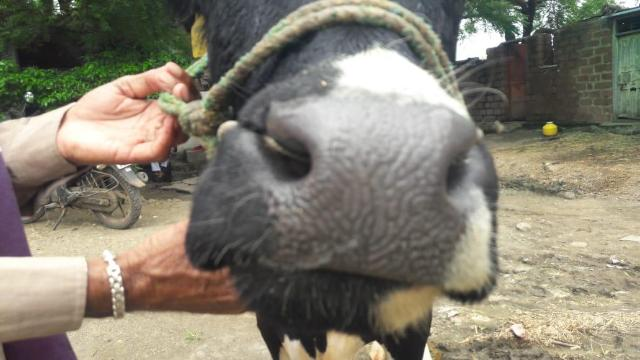Muzzle: (258, 98, 464, 282)
